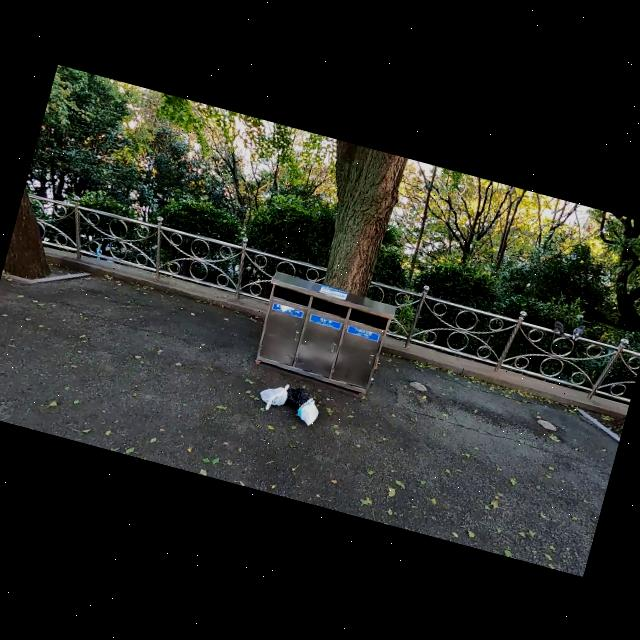trash: (256, 374, 292, 414), (290, 393, 322, 428), (281, 381, 310, 412)
